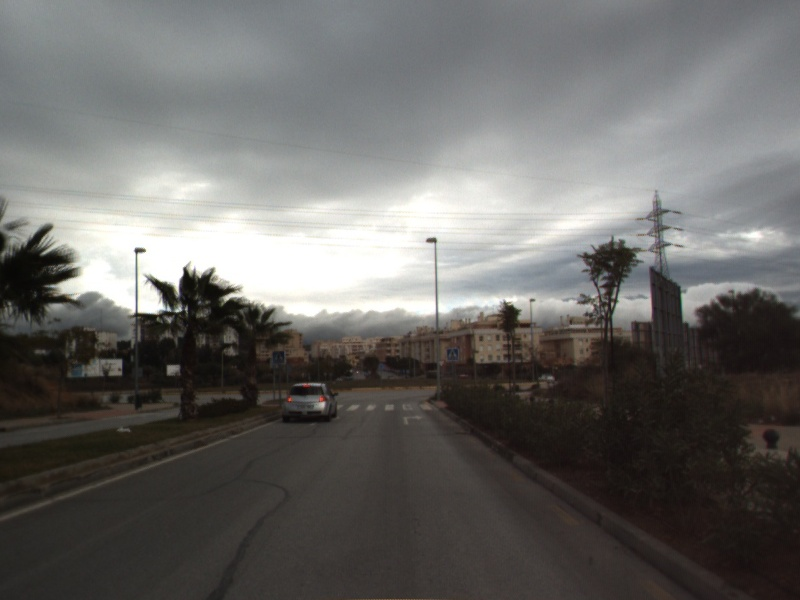RIGHT: (401, 413, 425, 427)
